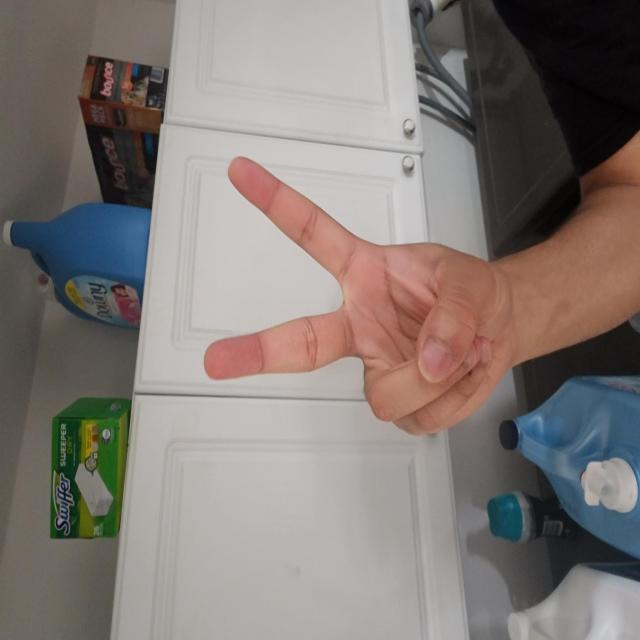V: (110, 229, 398, 640)
